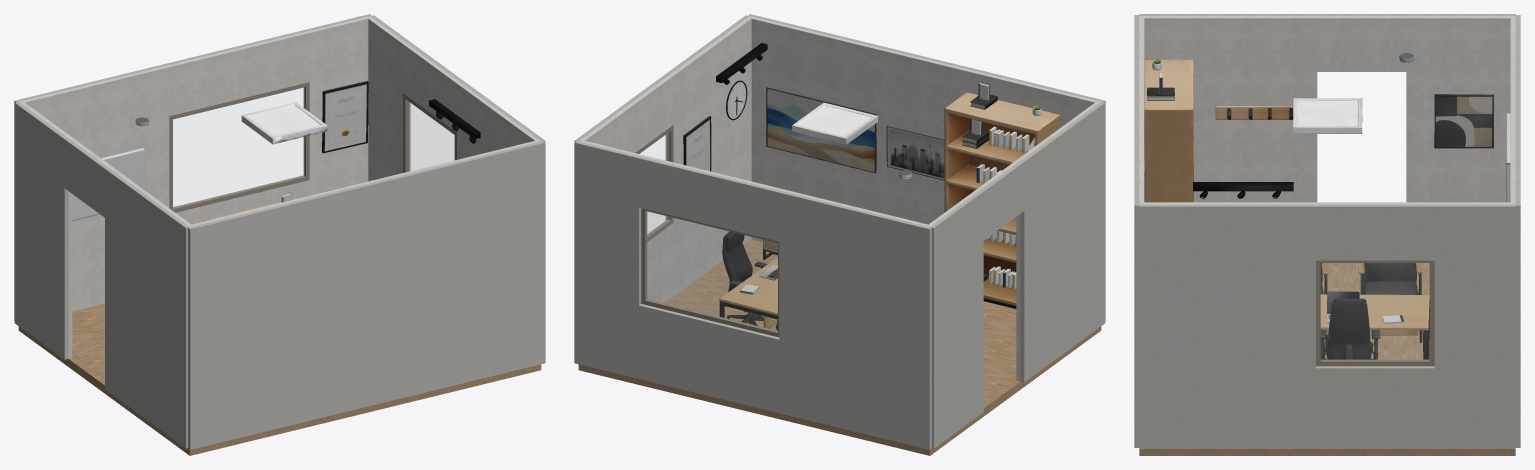
File: scene_web.glb
The picture shows the model from 3 angles, left to right: view 1: azimuth 30°, elevation 25°; view 2: azimuth 150°, elevation 25°; view 3: azimuth 270°, elevation 25°; orthographic projection. The views are drawn at different scales.
Visible parts, largest first — view 1: geometry_0.003, geometry_0.007, geometry_0, geometry_0.004, glass, Mesh_0, geometry_0.017, frame, glass.001, geometry_0.022, geometry_0.006, geometry_0.016 (+5 smaller); view 2: geometry_0.001, geometry_0.007, geometry_0.002, geometry_0.004, glass, Mesh_0, geometry_0.012, geometry_0.014, geometry_0.015, geometry_0.022, frame, geometry_0.008 (+10 smaller); view 3: geometry_0.005, geometry_0.006, glass.001, geometry_0.012, Mesh_0, geometry_0.021, geometry_0.009, geometry_0.008, geometry_0.001, geometry_0.003, geometry_0.022, frame.001 (+8 smaller).
Boxes of the visible parts, x1=… form: geometry_0.003: x1=188, y1=141, x2=545, y2=449; geometry_0.007: x1=14, y1=102, x2=189, y2=448; geometry_0: x1=23, y1=17, x2=368, y2=311; geometry_0.004: x1=366, y1=16, x2=540, y2=181; glass: x1=173, y1=88, x2=304, y2=207; Mesh_0: x1=18, y1=303, x2=541, y2=455; geometry_0.017: x1=322, y1=81, x2=368, y2=153; frame: x1=169, y1=82, x2=309, y2=212; glass.001: x1=407, y1=101, x2=454, y2=171; geometry_0.022: x1=241, y1=102, x2=327, y2=144; geometry_0.006: x1=19, y1=101, x2=193, y2=358; geometry_0.016: x1=72, y1=148, x2=145, y2=220; geometry_0.001: x1=574, y1=141, x2=931, y2=449; geometry_0.007: x1=930, y1=102, x2=1105, y2=448; geometry_0.002: x1=751, y1=17, x2=1096, y2=241; geometry_0.004: x1=579, y1=16, x2=753, y2=302; glass: x1=646, y1=211, x2=777, y2=331; Mesh_0: x1=578, y1=239, x2=1101, y2=455; geometry_0.012: x1=944, y1=92, x2=1060, y2=308; geometry_0.014: x1=766, y1=87, x2=876, y2=173; geometry_0.015: x1=886, y1=125, x2=944, y2=180; geometry_0.022: x1=792, y1=102, x2=878, y2=144; frame: x1=641, y1=208, x2=779, y2=337; geometry_0.008: x1=719, y1=257, x2=777, y2=330; geometry_0.005: x1=1139, y1=204, x2=1515, y2=448; geometry_0.006: x1=1139, y1=16, x2=1515, y2=202; glass.001: x1=1321, y1=263, x2=1429, y2=360; geometry_0.012: x1=1144, y1=59, x2=1194, y2=202; Mesh_0: x1=1139, y1=263, x2=1515, y2=455; geometry_0.021: x1=1434, y1=94, x2=1493, y2=148; geometry_0.009: x1=1320, y1=298, x2=1380, y2=359; geometry_0.008: x1=1320, y1=294, x2=1429, y2=359; geometry_0.001: x1=1515, y1=15, x2=1520, y2=447; geometry_0.003: x1=1134, y1=15, x2=1139, y2=447; geometry_0.022: x1=1293, y1=98, x2=1362, y2=133; frame.001: x1=1316, y1=260, x2=1434, y2=366.
Size of the model in its own units: 4.6 by 2.8 by 3.9.
Materials: 32 (30 with a texture image).
